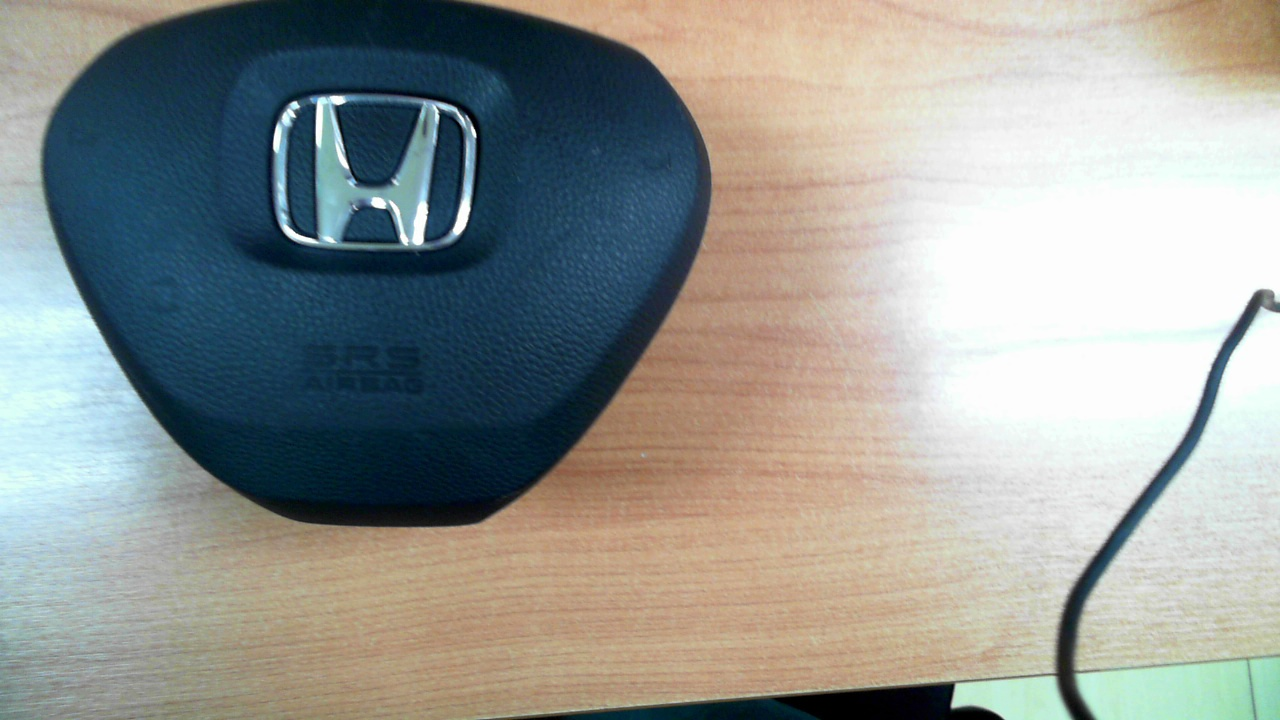Airbag: (40, 2, 713, 528)
Honda: (272, 92, 478, 252)
